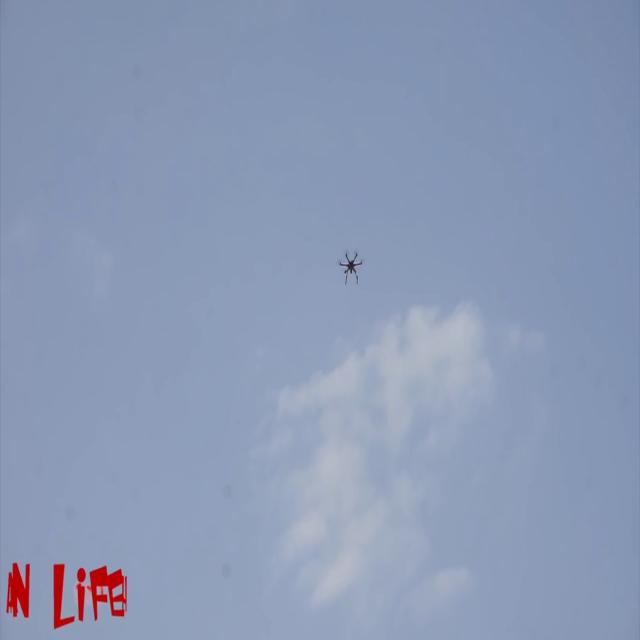drone: (338, 245, 367, 290)
